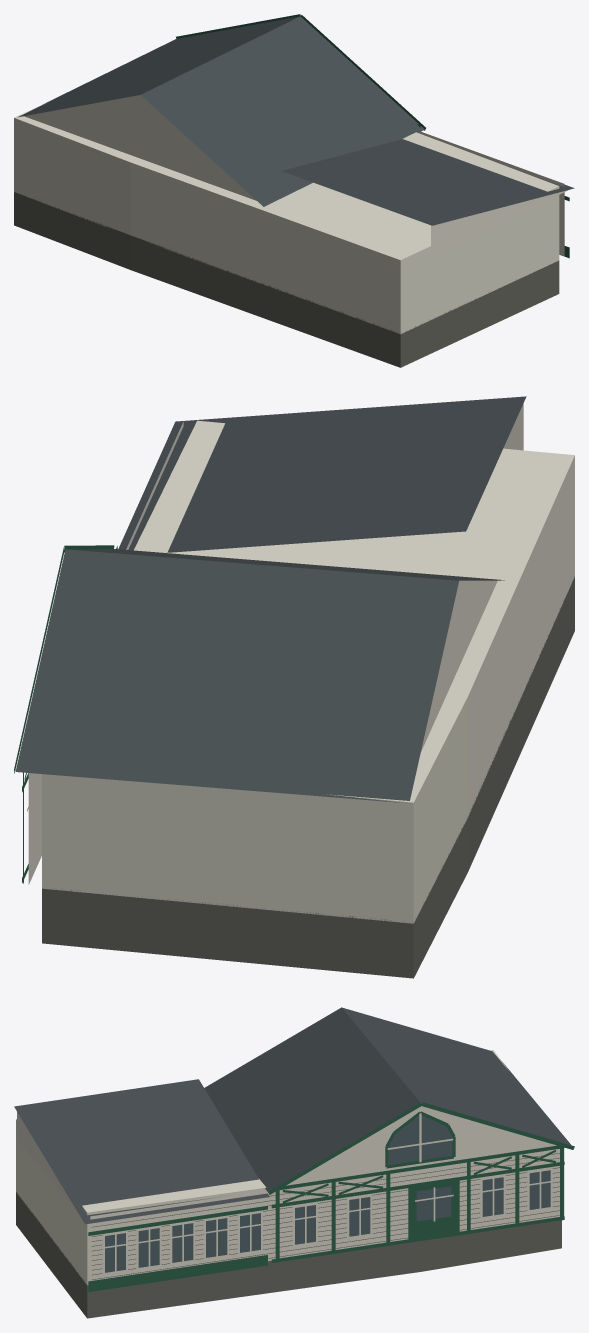
The model's file is ambleside-pier.glb.
3 renders of one model, top to bottom at view 1: azimuth 30°, elevation 25°; view 2: azimuth 150°, elevation 25°; view 3: azimuth 270°, elevation 25°, orthographic. The views are drawn at different scales.
Visible parts, largest first — view 1: Ambleside Pier booking office; view 2: Ambleside Pier booking office; view 3: Ambleside Pier booking office.
Part boxes in pixels (x1,y1,x2,y2): Ambleside Pier booking office: (14,14,574,367); Ambleside Pier booking office: (14,396,574,978); Ambleside Pier booking office: (14,1007,574,1318).
Bounding box in the file's own units: 15.22 × 7.27 × 21.27.
